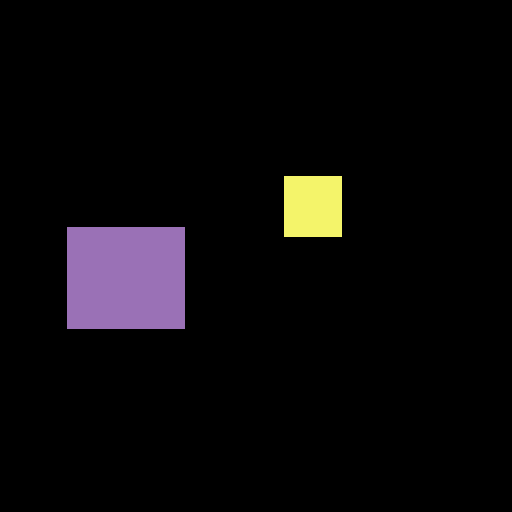rectangle: (67, 227, 184, 328)
square: (284, 176, 341, 236)
